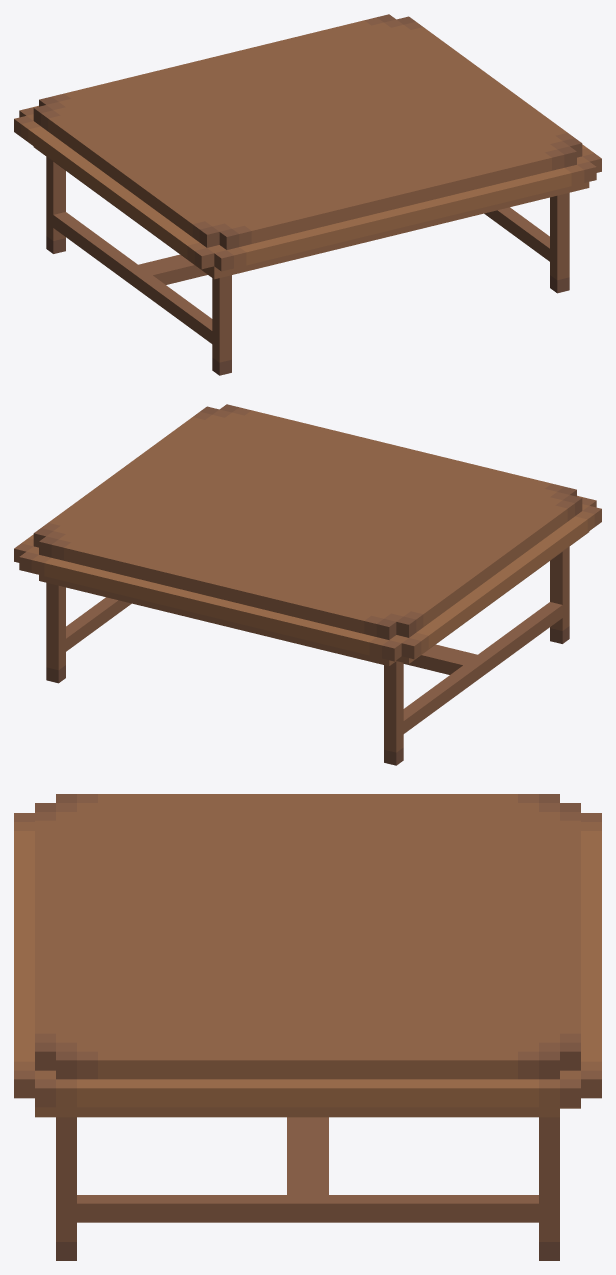
File: Table2x2.glb
3 views of the same model, one above another, from view 1: azimuth 30°, elevation 25°; view 2: azimuth 150°, elevation 25°; view 3: azimuth 270°, elevation 25° (orthographic). The views are drawn at different scales.
Visible parts, largest first — view 1: Untitled; view 2: Untitled; view 3: Untitled.
Part boxes in pixels (x1,y1,x2,y2): Untitled: (14,14,601,375); Untitled: (14,404,601,765); Untitled: (14,794,601,1260).
Size of the model in its own units: 3.2 by 1.1 by 2.8.
Materials: 1 (1 with a texture image).
